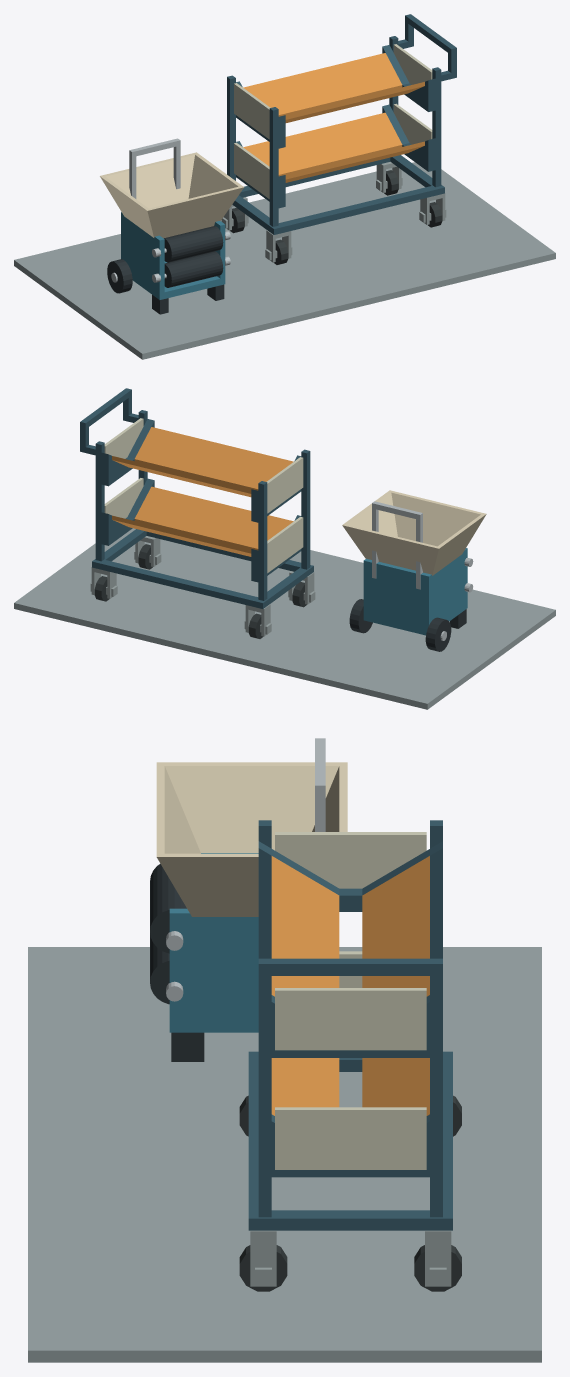
The picture shows the model from 3 angles, top to bottom: view 1: azimuth 30°, elevation 25°; view 2: azimuth 150°, elevation 25°; view 3: azimuth 270°, elevation 25°; orthographic projection. The views are drawn at different scales.
Visible parts, largest first — view 1: SceneWholeFiniteEquipmentHardstand, WholeOpenBottomFlaredHopper, Tier_2_BackContinuousInclinedRail, Tier_1_BackContinuousInclinedRail, LowOpenPerimeterFrame, WholeWeldedOpenFrontCarrier, WholeLowerFeedRoller, WholeUpperFeedRoller, Tier_2_LeftIndependentLowStop, Tier_1_LeftIndependentLowStop, FullPost_Left_Front, ContinuousSingleEndUHandle (+11 smaller); view 2: SceneWholeFiniteEquipmentHardstand, WholeOpenBottomFlaredHopper, WholeWeldedOpenFrontCarrier, Tier_2_FrontContinuousInclinedRail, Tier_1_FrontContinuousInclinedRail, LowOpenPerimeterFrame, Tier_1_LeftIndependentLowStop, Tier_2_LeftIndependentLowStop, FullPost_Left_Back, ContinuousSingleEndUHandle, Tier_1_BackContinuousInclinedRail, Tier_2_BackContinuousInclinedRail (+12 smaller); view 3: SceneWholeFiniteEquipmentHardstand, WholeOpenBottomFlaredHopper, WholeWeldedOpenFrontCarrier, Tier_1_RightIndependentLowStop, Tier_2_RightIndependentLowStop, LowOpenPerimeterFrame, Tier_2_FrontContinuousInclinedRail, Tier_2_BackContinuousInclinedRail, Tier_2_LeftIndependentLowStop, ContinuousSingleEndUHandle, Tier_1_FrontContinuousInclinedRail, Tier_1_BackContinuousInclinedRail (+15 smaller).
Boxes of the visible parts, left/top/right/bottom form: SceneWholeFiniteEquipmentHardstand: left=14, top=162, right=555, bottom=359; WholeOpenBottomFlaredHopper: left=100, top=152, right=244, bottom=238; Tier_2_BackContinuousInclinedRail: left=243, top=53, right=402, bottom=116; Tier_1_BackContinuousInclinedRail: left=243, top=112, right=402, bottom=176; LowOpenPerimeterFrame: left=232, top=155, right=444, bottom=234; WholeWeldedOpenFrontCarrier: left=121, top=212, right=225, bottom=299; WholeLowerFeedRoller: left=164, top=251, right=223, bottom=287; WholeUpperFeedRoller: left=164, top=226, right=223, bottom=262; Tier_2_LeftIndependentLowStop: left=234, top=83, right=270, bottom=139; Tier_1_LeftIndependentLowStop: left=234, top=142, right=269, bottom=198; FullPost_Left_Front: left=269, top=107, right=278, bottom=226; ContinuousSingleEndUHandle: left=398, top=14, right=456, bottom=81; SceneWholeFiniteEquipmentHardstand: left=14, top=528, right=555, bottom=709; WholeOpenBottomFlaredHopper: left=342, top=490, right=486, bottom=575; WholeWeldedOpenFrontCarrier: left=363, top=548, right=467, bottom=635; Tier_2_FrontContinuousInclinedRail: left=134, top=427, right=293, bottom=490; Tier_1_FrontContinuousInclinedRail: left=134, top=486, right=293, bottom=550; LowOpenPerimeterFrame: left=92, top=529, right=313, bottom=608; Tier_1_LeftIndependentLowStop: left=267, top=517, right=303, bottom=573; Tier_2_LeftIndependentLowStop: left=266, top=457, right=303, bottom=513; FullPost_Left_Back: left=258, top=481, right=267, bottom=600; ContinuousSingleEndUHandle: left=80, top=388, right=138, bottom=455; Tier_1_BackContinuousInclinedRail: left=112, top=515, right=251, bottom=556; Tier_2_BackContinuousInclinedRail: left=112, top=456, right=251, bottom=497; SceneWholeFiniteEquipmentHardstand: left=28, top=947, right=541, bottom=1362; WholeOpenBottomFlaredHopper: left=156, top=762, right=347, bottom=916; WholeWeldedOpenFrontCarrier: left=169, top=853, right=258, bottom=1032; Tier_1_RightIndependentLowStop: left=275, top=1107, right=426, bottom=1169; Tier_2_RightIndependentLowStop: left=275, top=988, right=426, bottom=1050; LowOpenPerimeterFrame: left=248, top=1051, right=452, bottom=1230; Tier_2_FrontContinuousInclinedRail: left=271, top=856, right=339, bottom=996; Tier_2_BackContinuousInclinedRail: left=362, top=856, right=429, bottom=996; Tier_2_LeftIndependentLowStop: left=275, top=832, right=426, bottom=888; ContinuousSingleEndUHandle: left=258, top=958, right=442, bottom=1023; Tier_1_FrontContinuousInclinedRail: left=271, top=1058, right=339, bottom=1115; Tier_1_BackContinuousInclinedRail: left=362, top=1058, right=429, bottom=1115.
Size of the model in its own units: 2.9 by 1.2 by 1.56.
